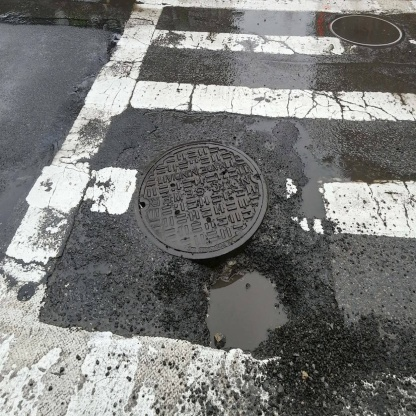pothole: (151, 228, 321, 377)
